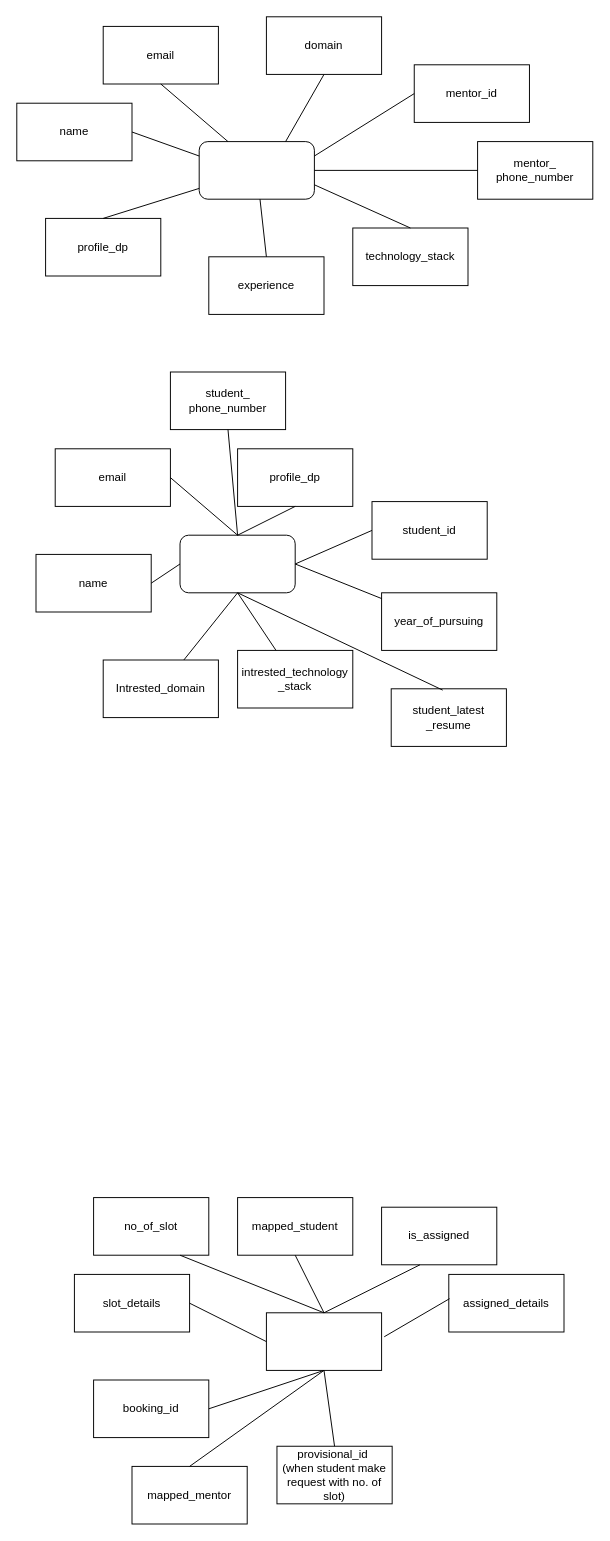
Image size: 610x1541. Some labels were removed from this diagram. Each missing label, with the centre of its shape:
"Candidate" belongs at pixel 237 563.
"Helper" belongs at pixel 323 1341.
"Mentor" belongs at pixel 256 170.
